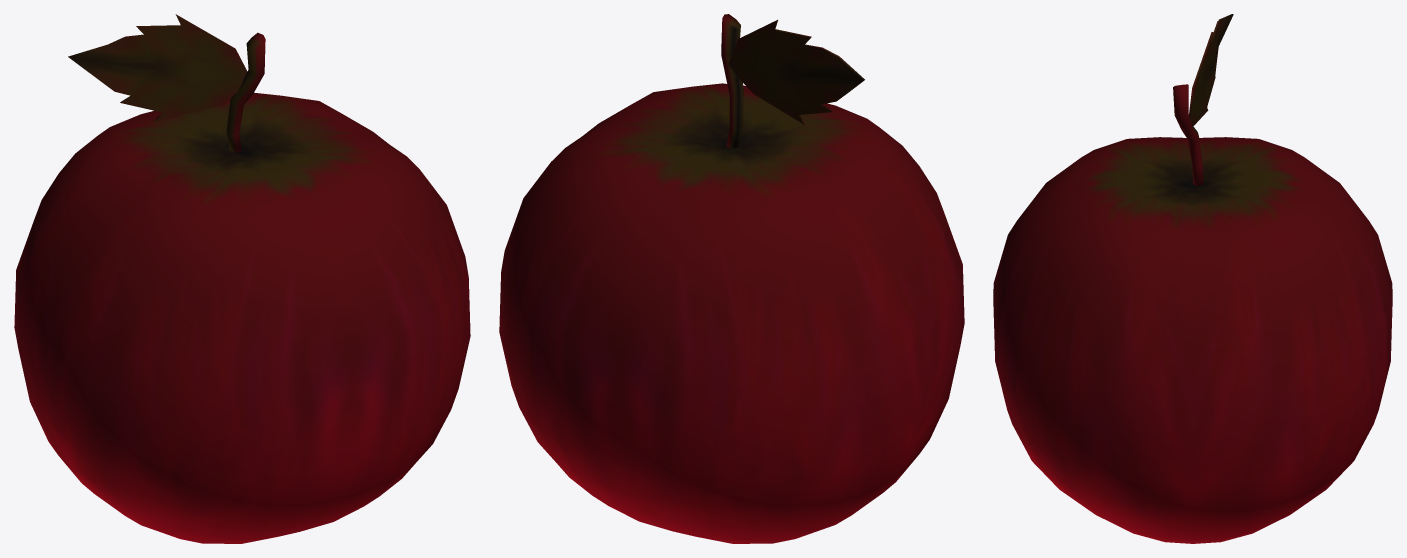
File: BadApple.fbx
3 views of the same model, side by side, from view 1: azimuth 30°, elevation 25°; view 2: azimuth 150°, elevation 25°; view 3: azimuth 270°, elevation 25° (orthographic). The views are drawn at different scales.
Parts seen in each view (by area): view 1: Cube, Cube.002, Cube.001; view 2: Cube, Cube.002, Cube.001; view 3: Cube, Cube.002, Cube.001.
Boxes of the visible parts, box(x1,y1,x2,y2) form: Cube: box(14, 92, 470, 543); Cube.002: box(68, 14, 247, 122); Cube.001: box(226, 32, 265, 152); Cube: box(499, 83, 964, 543); Cube.002: box(728, 20, 864, 125); Cube.001: box(721, 14, 743, 148); Cube: box(993, 137, 1392, 543); Cube.002: box(1189, 14, 1233, 125); Cube.001: box(1173, 84, 1203, 185).
Size of the model in its own units: 381 by 482 by 378.
